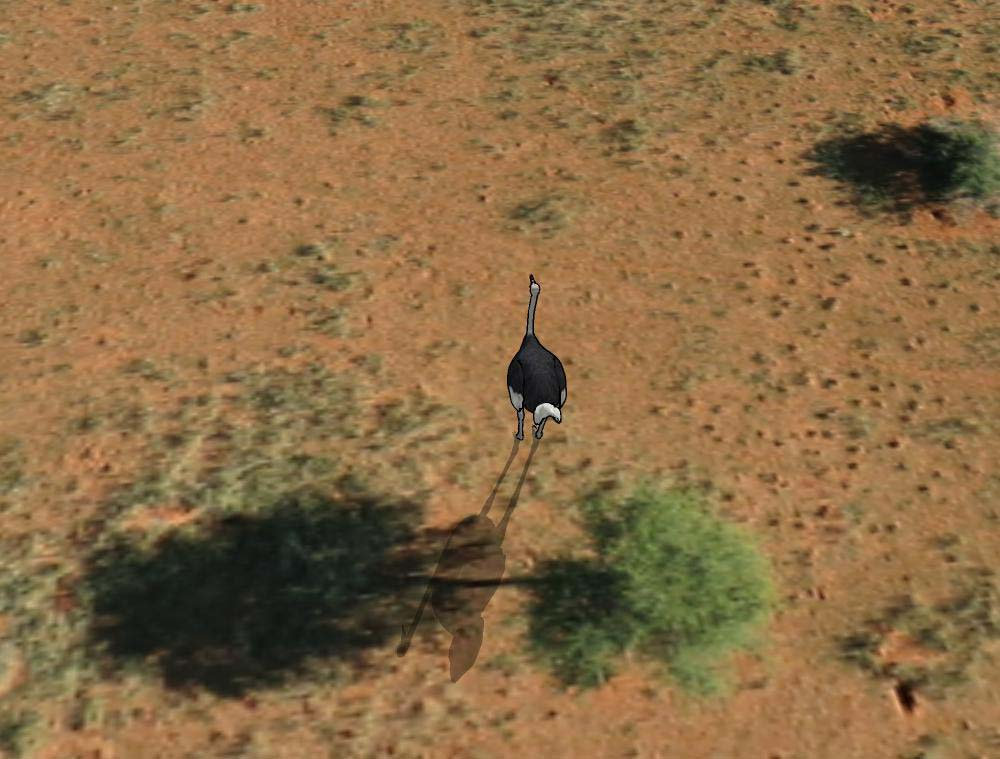springbok: (496, 276, 574, 441)
